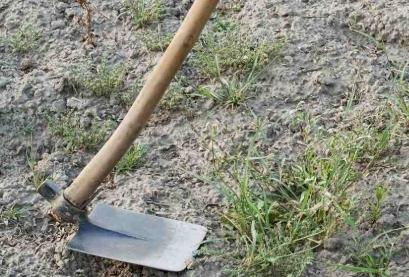HOUE: (30, 2, 274, 271)
